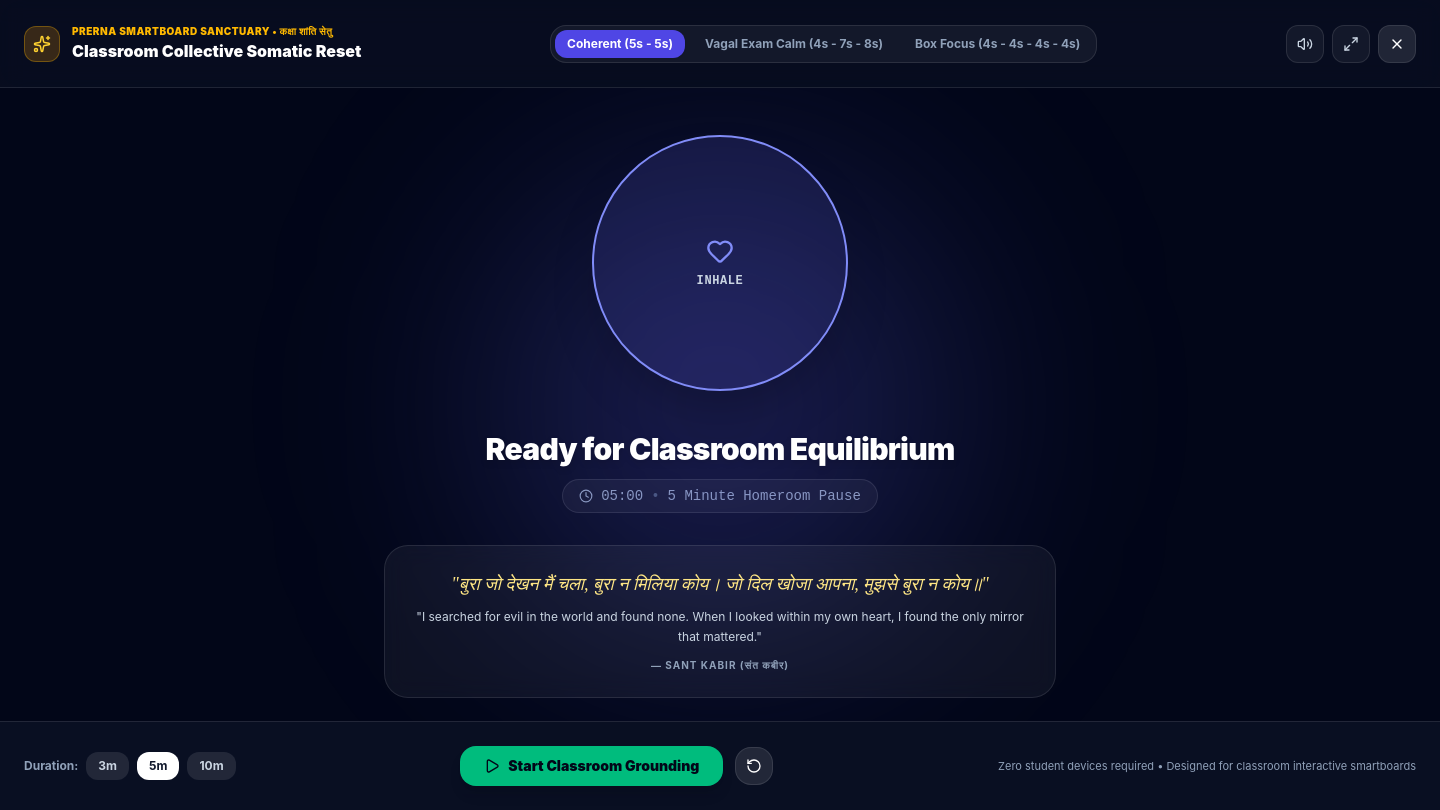
ClassroomSanctuaryModal Component › starts and pauses classroom grounding timer on button click
The image size is (1440, 810).
Click the button "Start Classroom Grounding" at x=592, y=766, box x1=460 y1=746 x2=723 y2=786
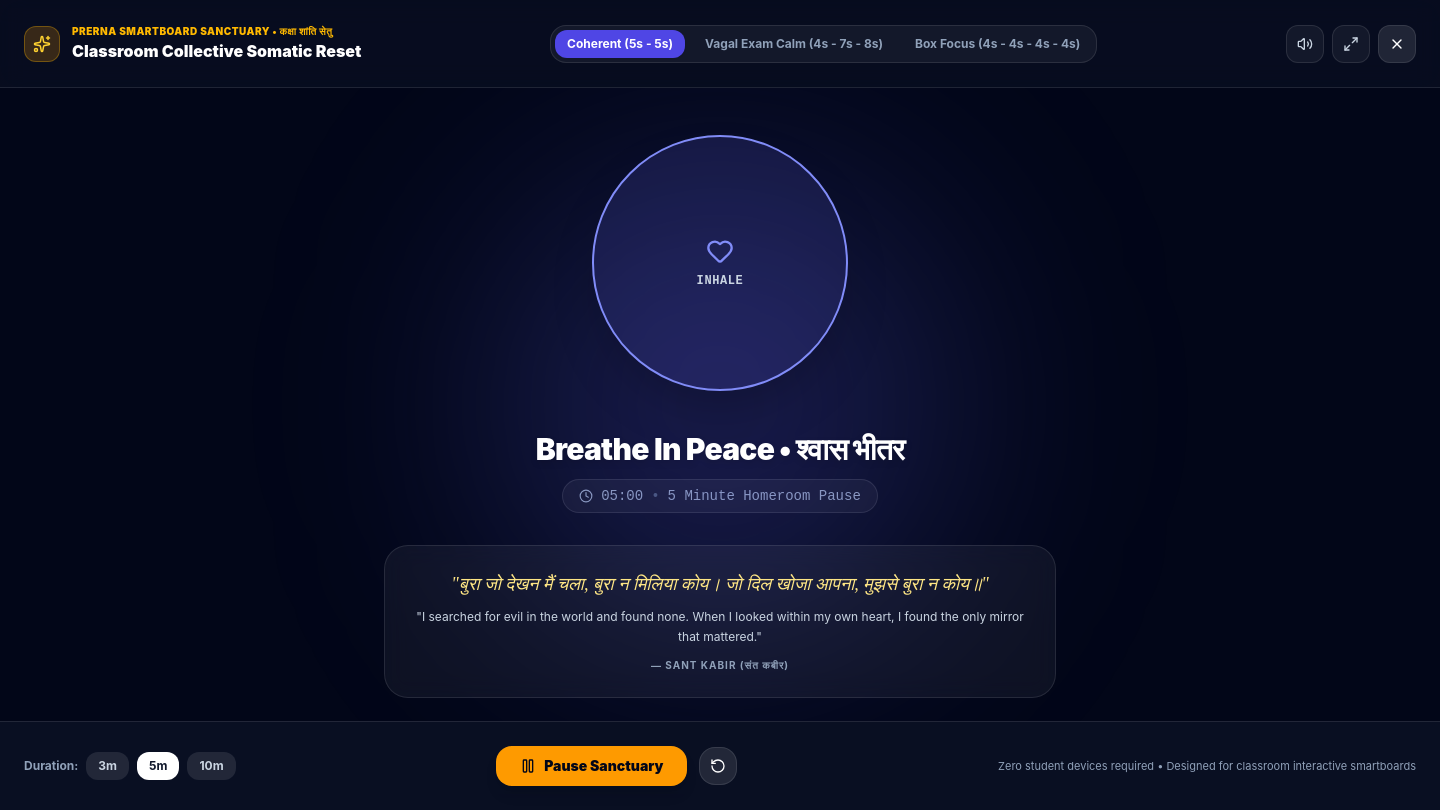
expect the text "Pause Sanctuary" is shown: met, box x1=544 y1=756 x2=664 y2=776
Click the button "Pause Sanctuary" at x=592, y=766, box x1=496 y1=746 x2=688 y2=786
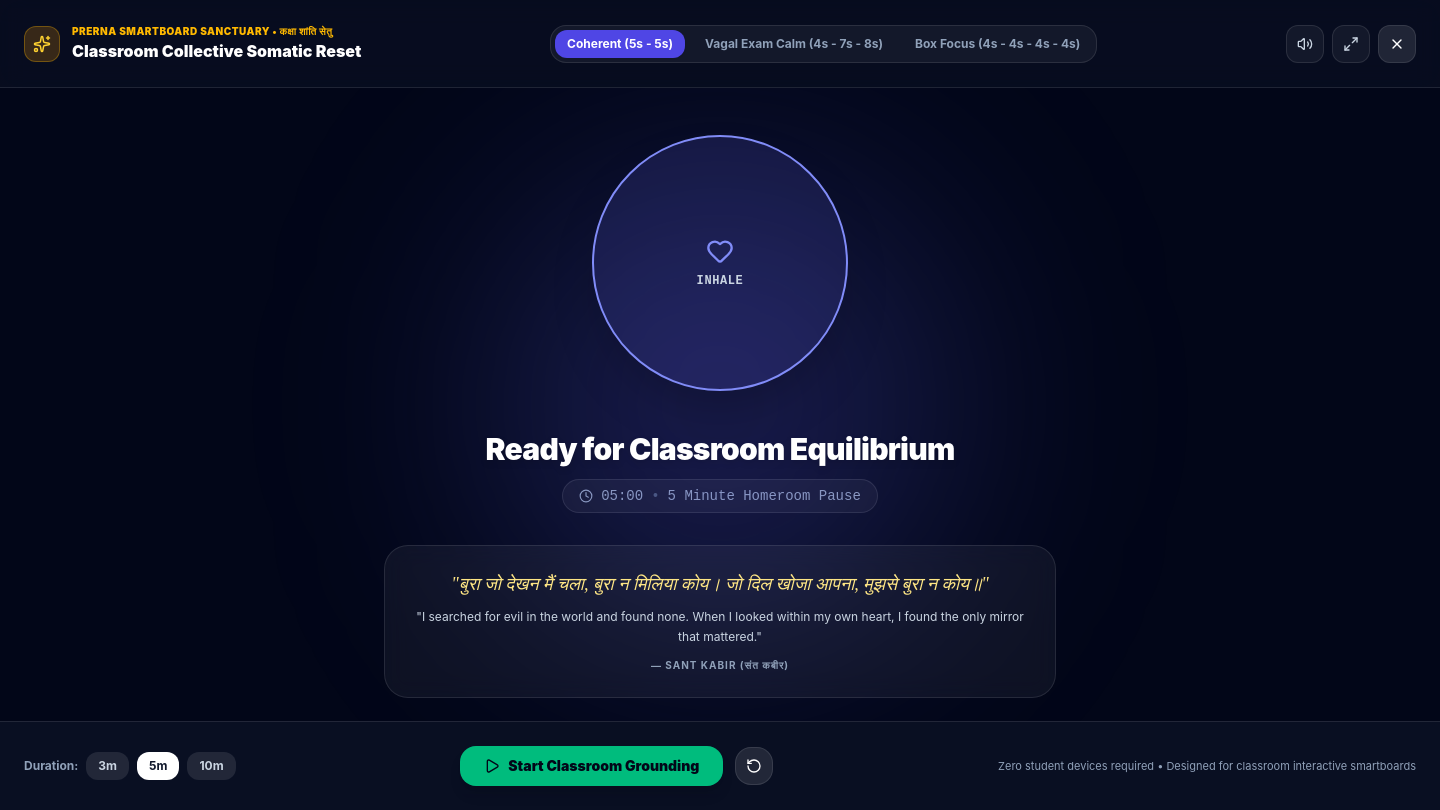
expect the text "Start Classroom Grounding" is shown: met, box x1=508 y1=756 x2=699 y2=776
